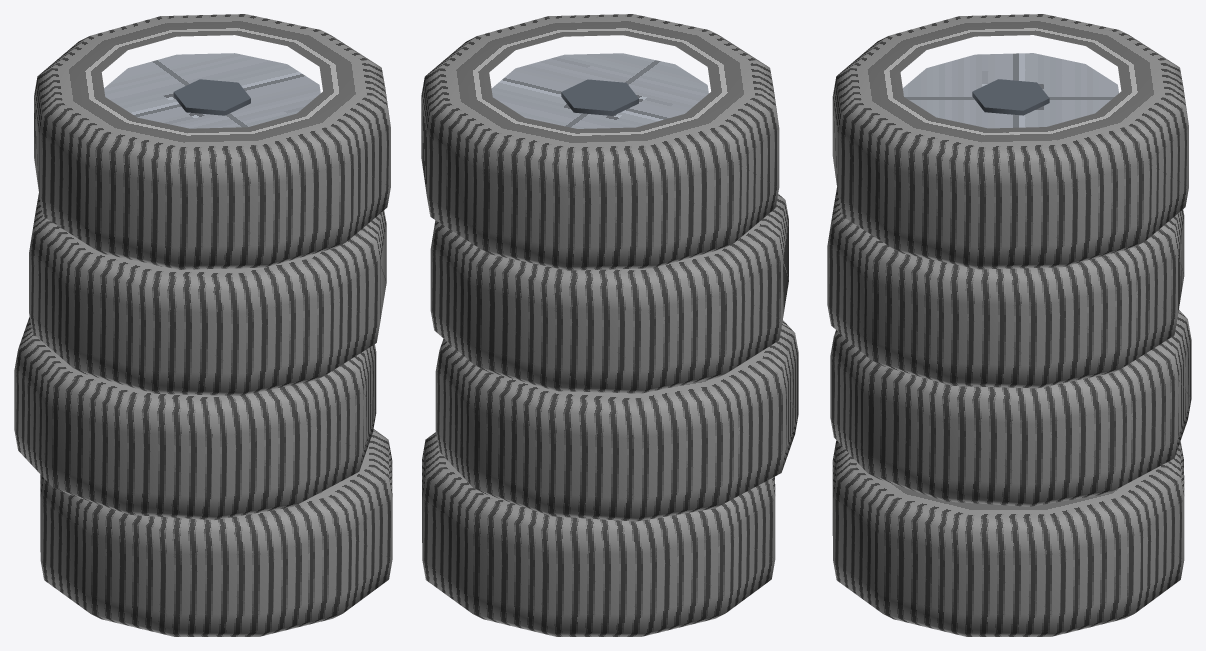
The model's file is pilha_de_pneus.glb.
The picture shows the model from 3 angles, left to right: view 1: azimuth 30°, elevation 25°; view 2: azimuth 150°, elevation 25°; view 3: azimuth 270°, elevation 25°; orthographic projection.
Parts seen in each view (by area): view 1: pilha_de_pneus_pneu, pilha_de_pneus; view 2: pilha_de_pneus_pneu, pilha_de_pneus; view 3: pilha_de_pneus_pneu, pilha_de_pneus.
Boxes of the visible parts, left/top/right/bottom form: pilha_de_pneus_pneu: left=14, top=14, right=392, bottom=636; pilha_de_pneus: left=104, top=53, right=320, bottom=128; pilha_de_pneus_pneu: left=421, top=14, right=798, bottom=636; pilha_de_pneus: left=491, top=53, right=708, bottom=128; pilha_de_pneus_pneu: left=827, top=14, right=1191, bottom=636; pilha_de_pneus: left=903, top=53, right=1118, bottom=128.
Size of the model in its own units: 0.6883 by 0.975 by 0.6606.
3 materials, 2 textured.
